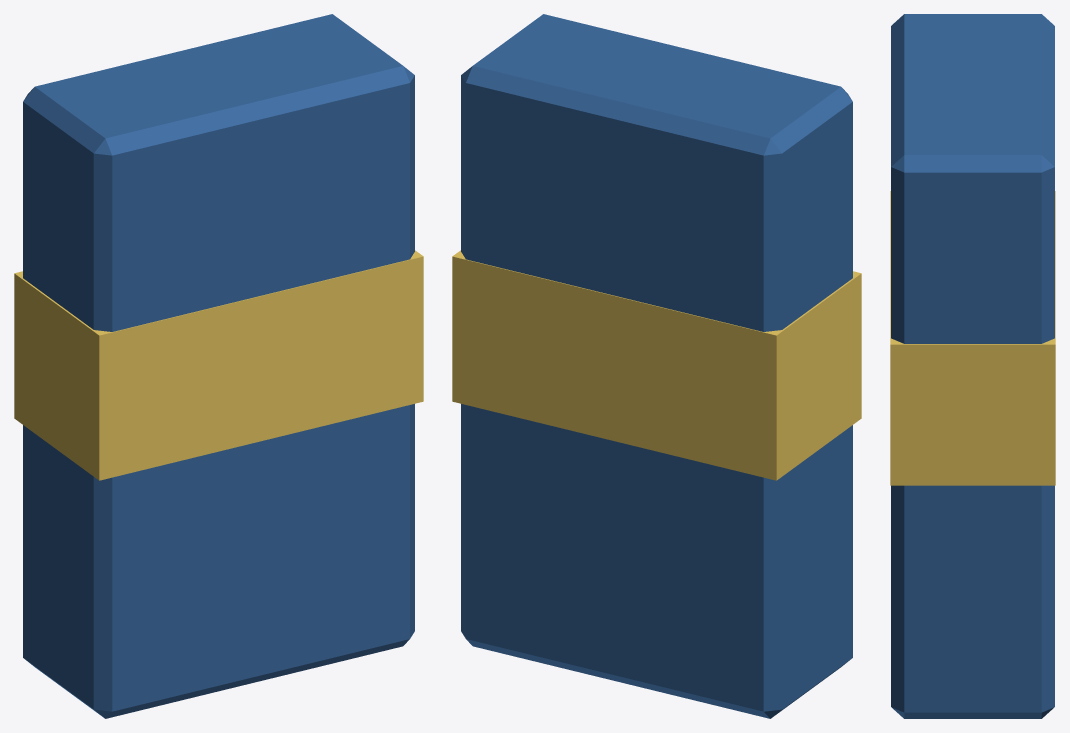
Rendered from macaroni.glb.
The picture shows the model from 3 angles, left to right: view 1: azimuth 30°, elevation 25°; view 2: azimuth 150°, elevation 25°; view 3: azimuth 270°, elevation 25°; orthographic projection. The views are drawn at different scales.
Parts seen in each view (by area): view 1: Item; view 2: Item; view 3: Item.
Part boxes in pixels (x1,y1,x2,y2): Item: (14,14,423,718); Item: (452,14,861,718); Item: (890,14,1055,718).
Size of the model in its own units: 0.1111 by 0.19 by 0.0505.
